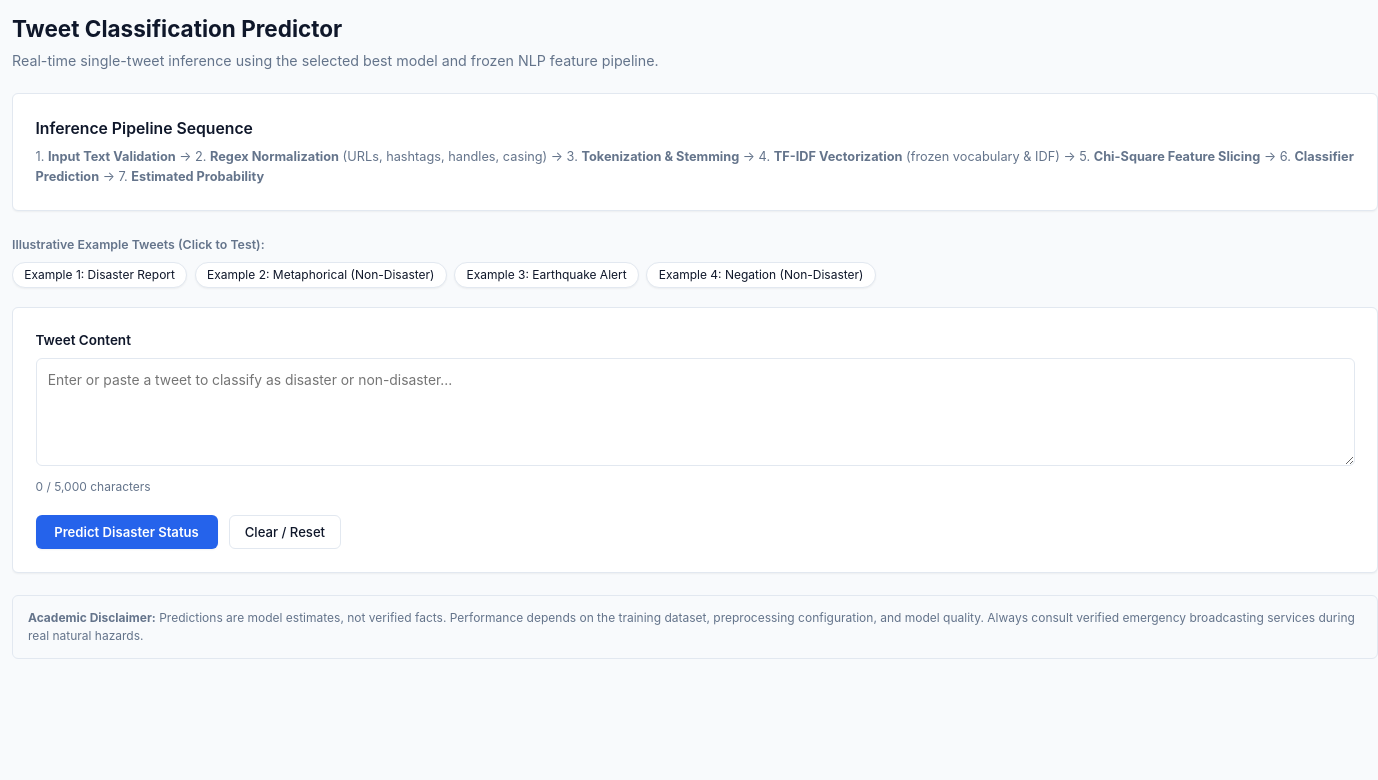
Scenario: Prediction Page Component Tests (T16) › displays helpful error message when backend returns 503 NO_MODEL_LOADED
Replace the text in the text box with placeholder "Enter or paste a tweet to classify" with "Earthquake alert" at (695,412), box x1=36 y1=358 x2=1354 y2=466
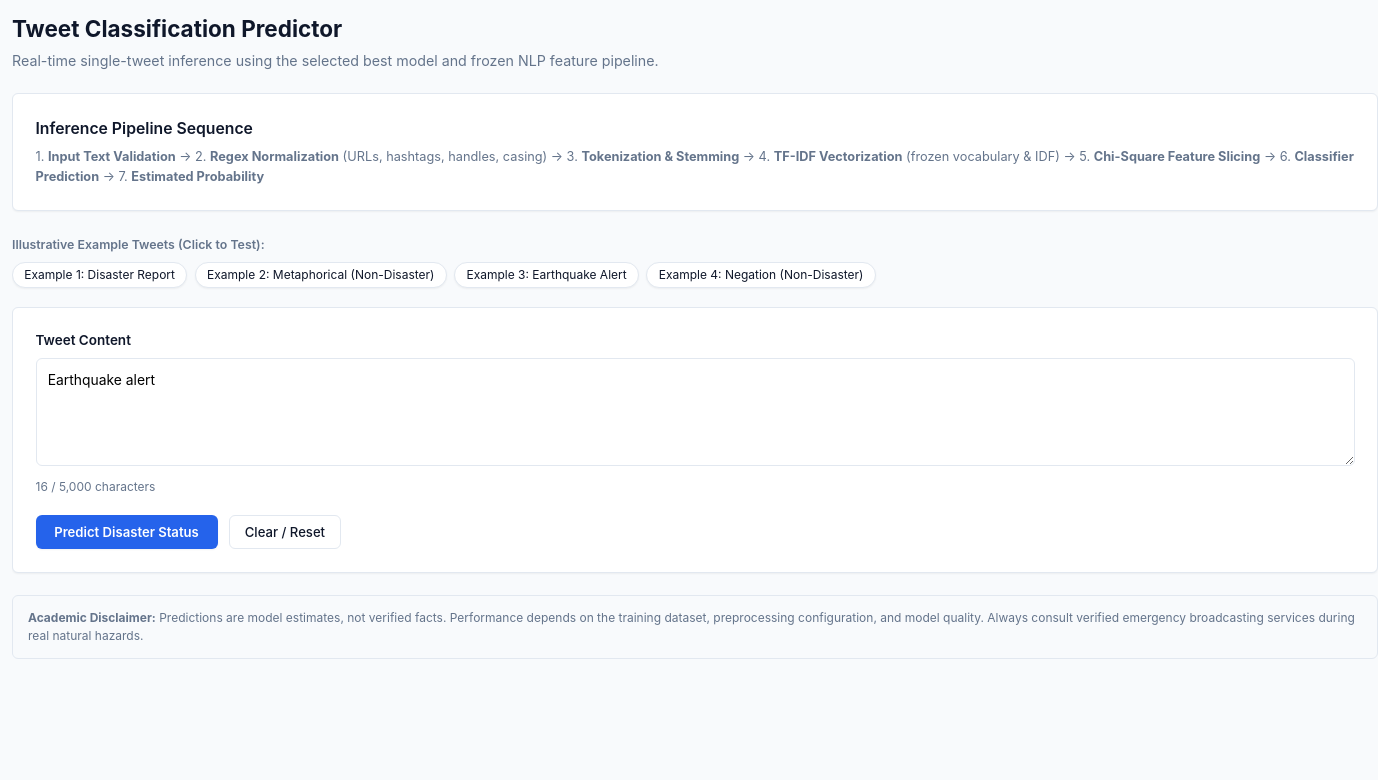
Click the button "Predict Disaster Status" at (126,532), box x1=36 y1=515 x2=218 y2=549
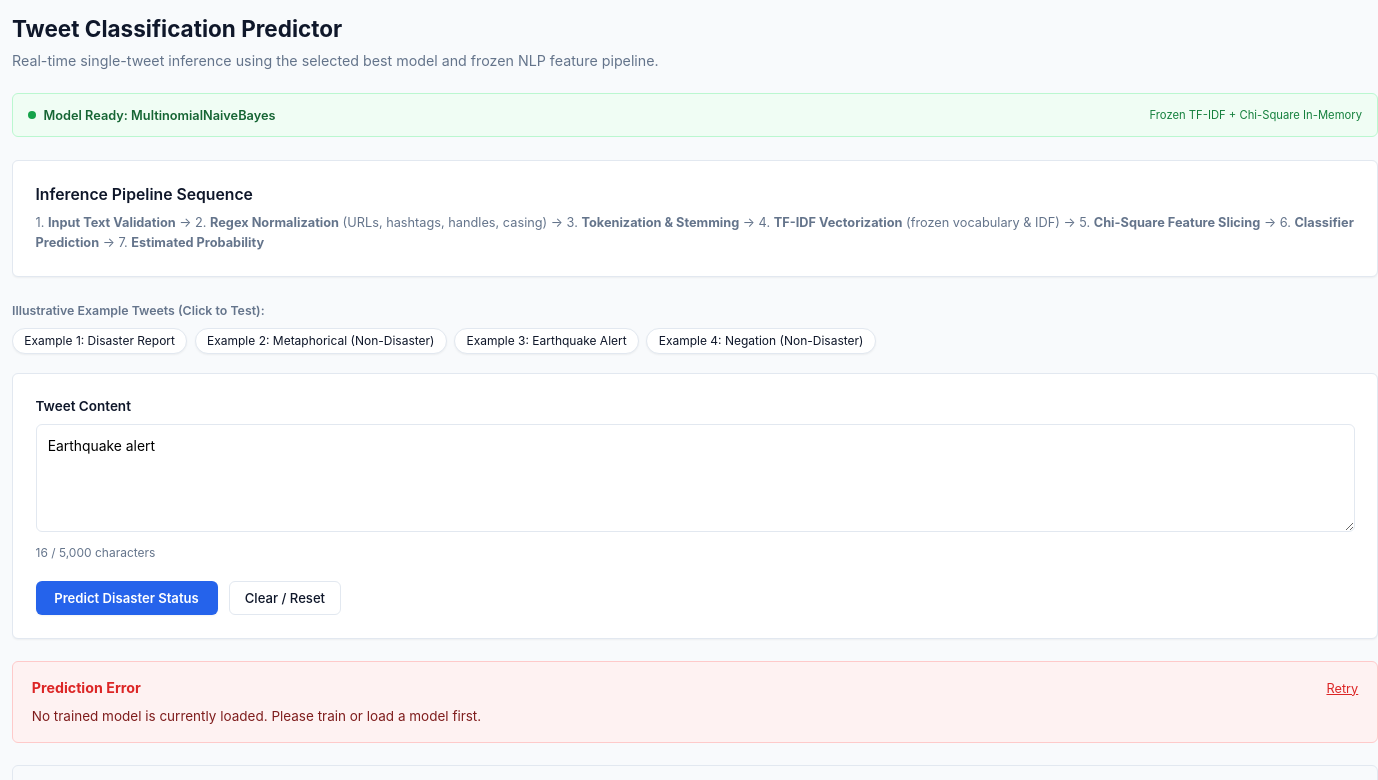
expect the text "No trained model is currently loaded" is shown: met, box x1=32 y1=708 x2=481 y2=724
